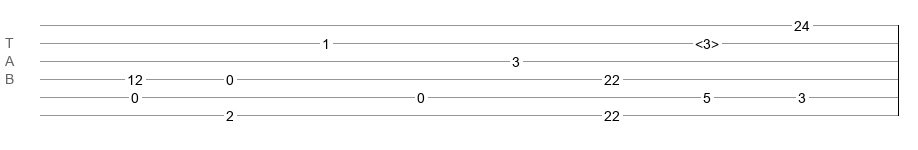0: (131, 90, 139, 100), (226, 72, 234, 82), (417, 90, 425, 100)
1: (322, 36, 330, 46)
12: (127, 72, 143, 82)
2: (226, 108, 234, 118)
22: (604, 108, 620, 118), (604, 72, 620, 82)
24: (794, 18, 810, 28)
3: (512, 54, 520, 64), (798, 90, 806, 100)
5: (703, 90, 711, 100)
harmonic: (695, 36, 719, 46)
